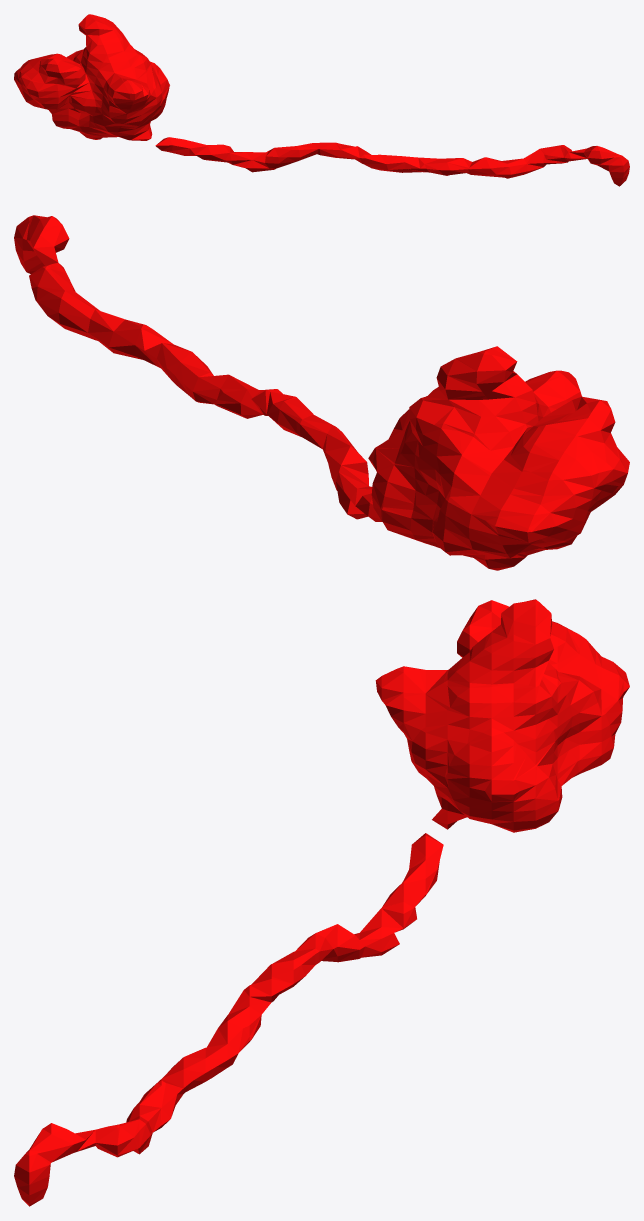
The model's file is yoaE_coarse.dae.
3 renders of one model, top to bottom at view 1: azimuth 30°, elevation 25°; view 2: azimuth 150°, elevation 25°; view 3: azimuth 270°, elevation 25°, orthographic. The views are drawn at different scales.
Parts seen in each view (by area): view 1: yoaE; view 2: yoaE; view 3: yoaE.
Part boxes in pixels (box(x1,y1,x2,y2)): yoaE: box(14, 14, 629, 186); yoaE: box(14, 215, 629, 570); yoaE: box(14, 599, 629, 1206).
Bounding box in the file's own units: 254 × 83.69 × 167.
